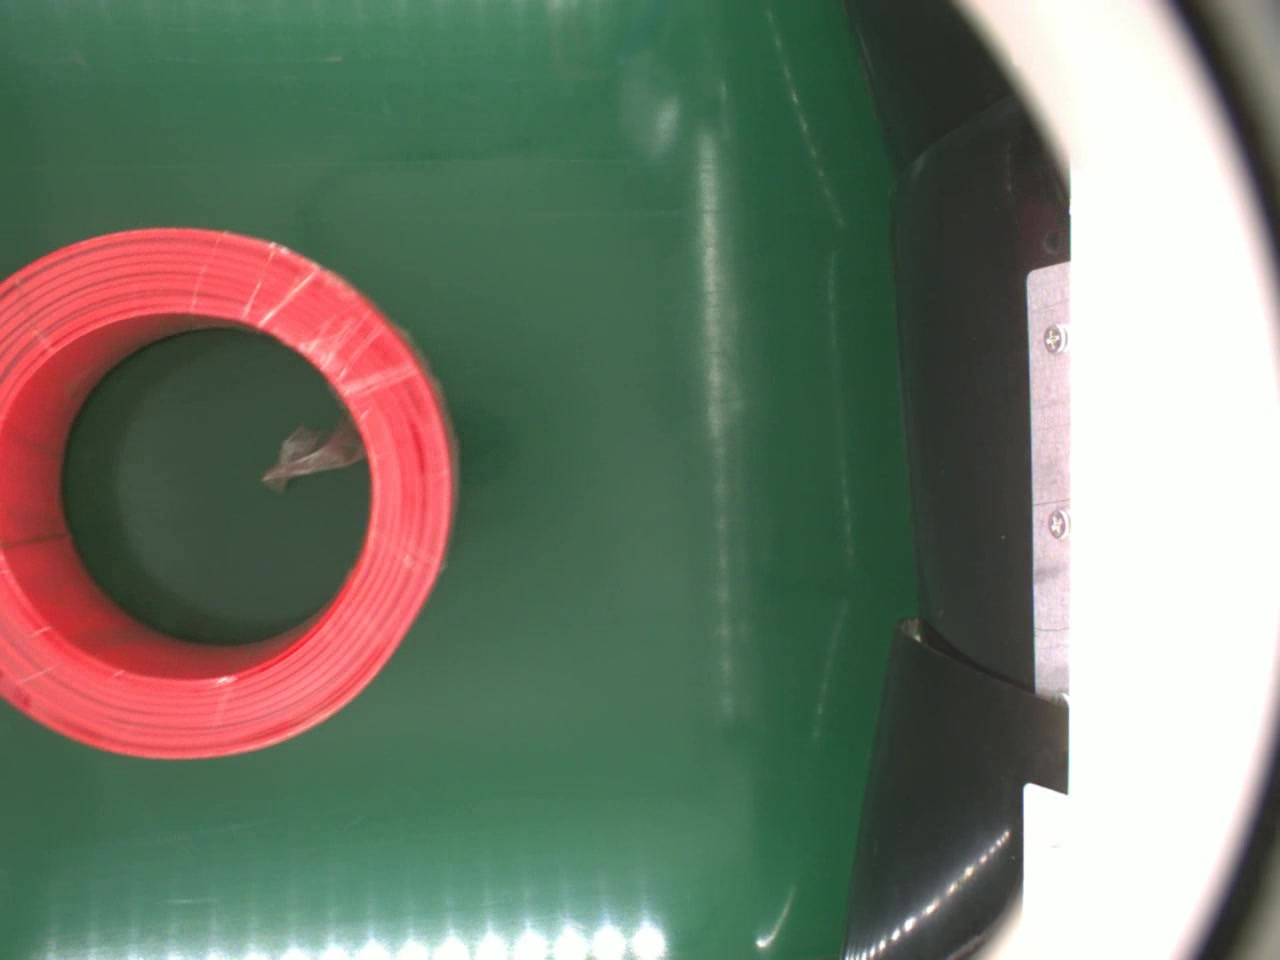red: (0, 225, 465, 763)
